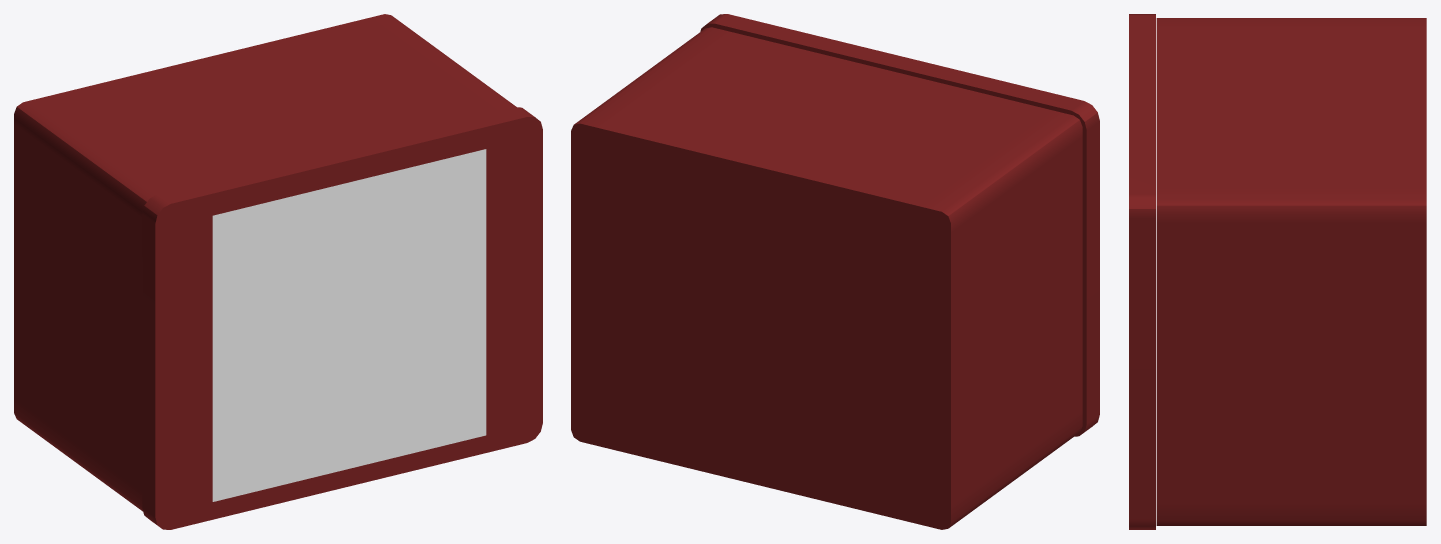
Rendered from Battery Panel.glb.
3 renders of one model, left to right at view 1: azimuth 30°, elevation 25°; view 2: azimuth 150°, elevation 25°; view 3: azimuth 270°, elevation 25°, orthographic. The views are drawn at different scales.
Parts seen in each view (by area): view 1: Battery_Panel, Plane, Battery_Panel_cover; view 2: Battery_Panel, Battery_Panel_cover; view 3: Battery_Panel, Battery_Panel_cover.
Part boxes in pixels (bbox=[...]): Battery_Panel: bbox=[14, 14, 516, 511]; Plane: bbox=[212, 149, 486, 501]; Battery_Panel_cover: bbox=[142, 107, 542, 529]; Battery_Panel: bbox=[571, 27, 1082, 529]; Battery_Panel_cover: bbox=[700, 14, 1099, 436]; Battery_Panel: bbox=[1156, 18, 1426, 525]; Battery_Panel_cover: bbox=[1129, 14, 1155, 529].
Size of the model in its own units: 5.1 by 4.1 by 3.31.
